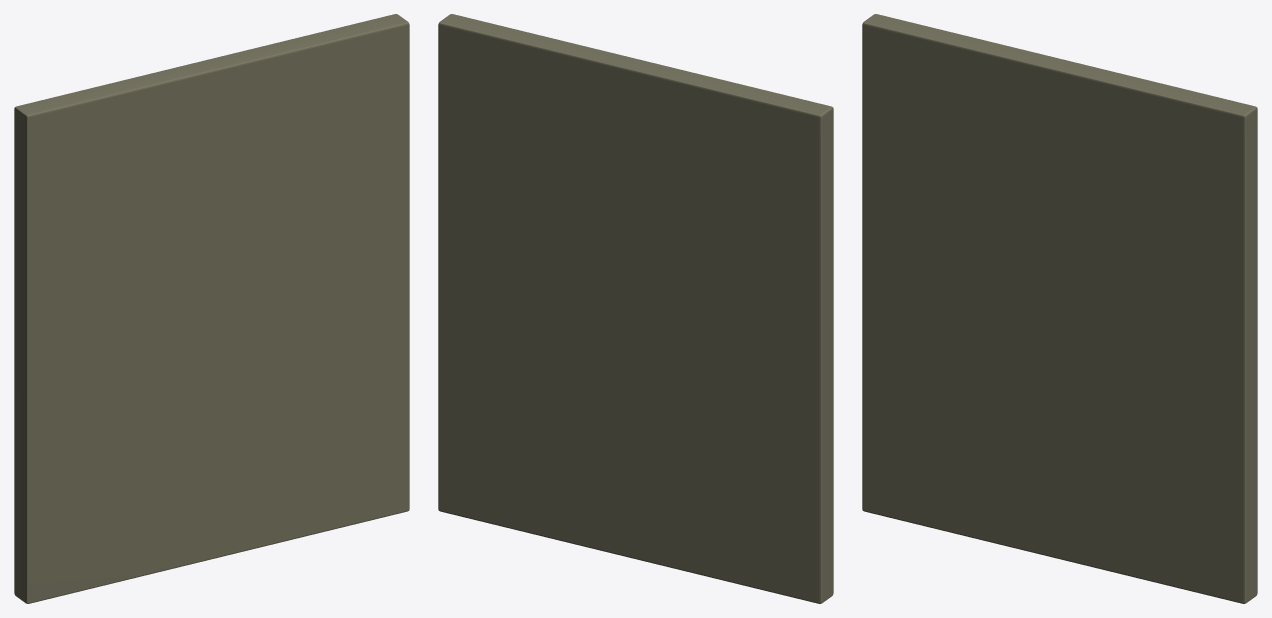
File: hallwayWall.fbx
The picture shows the model from 3 angles, left to right: view 1: azimuth 30°, elevation 25°; view 2: azimuth 150°, elevation 25°; view 3: azimuth 330°, elevation 25°; orthographic projection.
Visible parts, largest first — view 1: hallwayWall; view 2: hallwayWall; view 3: hallwayWall.
Boxes of the visible parts, x1,y1,x2,y2 form: hallwayWall: (14, 14, 409, 603); hallwayWall: (438, 14, 833, 603); hallwayWall: (862, 14, 1257, 603).
Size of the model in its own units: 98.47 by 120 by 6.
